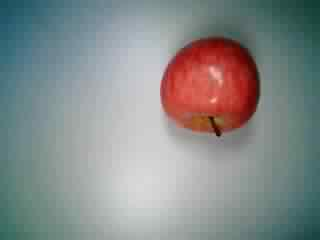apple: (158, 34, 265, 137)
